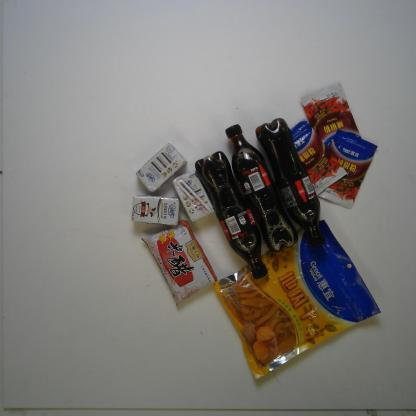Dried Fruit: (211, 219, 383, 380)
Drink: (194, 150, 268, 279), (224, 122, 298, 250), (254, 118, 326, 248)
Milk: (135, 142, 187, 191), (173, 170, 213, 222), (131, 194, 181, 227)
Seasoner: (140, 221, 216, 308), (319, 129, 379, 208), (288, 119, 348, 198), (299, 81, 362, 142)
